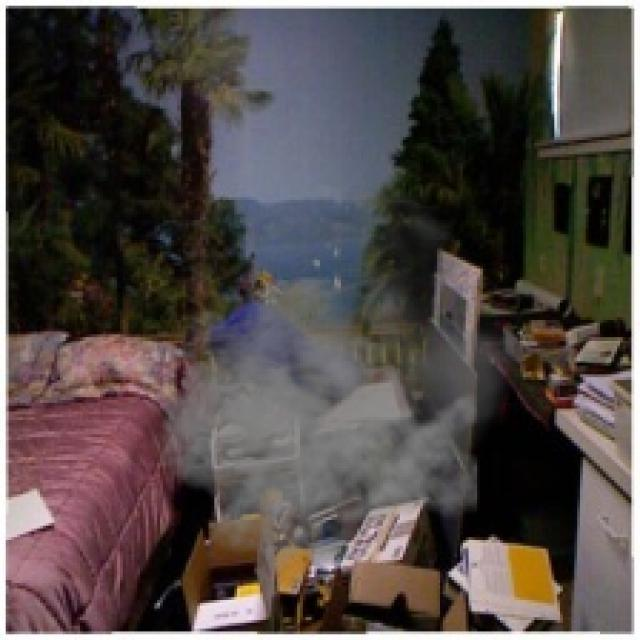Smoke: (134, 172, 526, 574)
